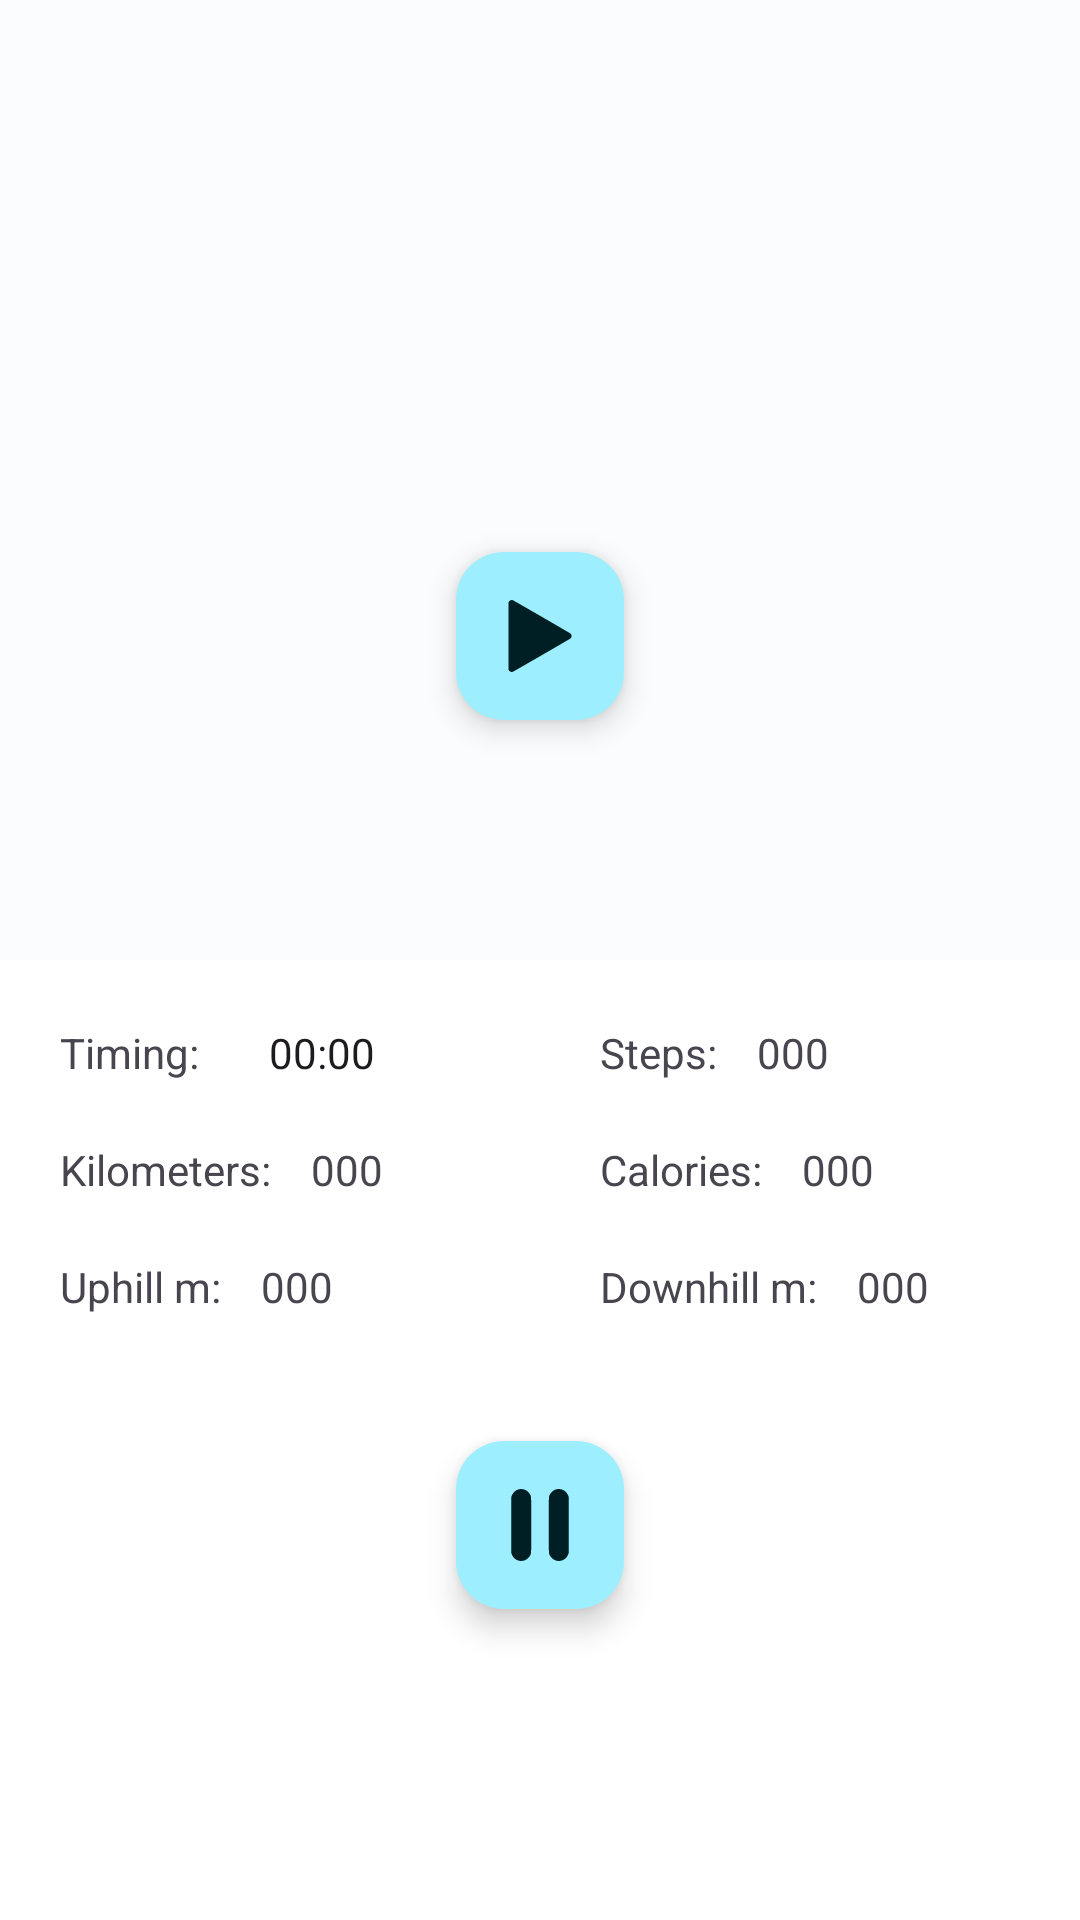

Named icons in this screenshot (1080 × 1920) and their centers, (x=x, y=y):
pause: (x=540, y=1525)
play: (x=540, y=636)
